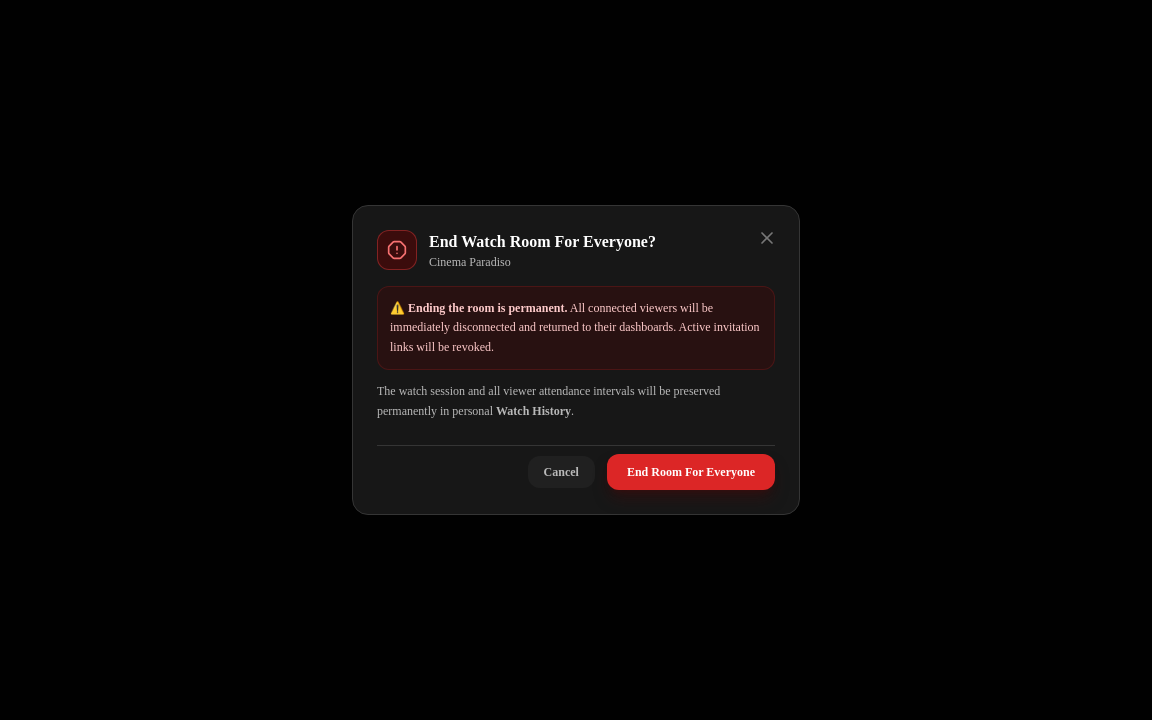
Test: LeaveRoomModal & EndRoomModal Component Tests › EndRoomModal › displays error message if room closure fails
The width and height of the screenshot is (1152, 720).
Click the button "End Room For Everyone".
click(691, 472)  # box [607,454,775,490]
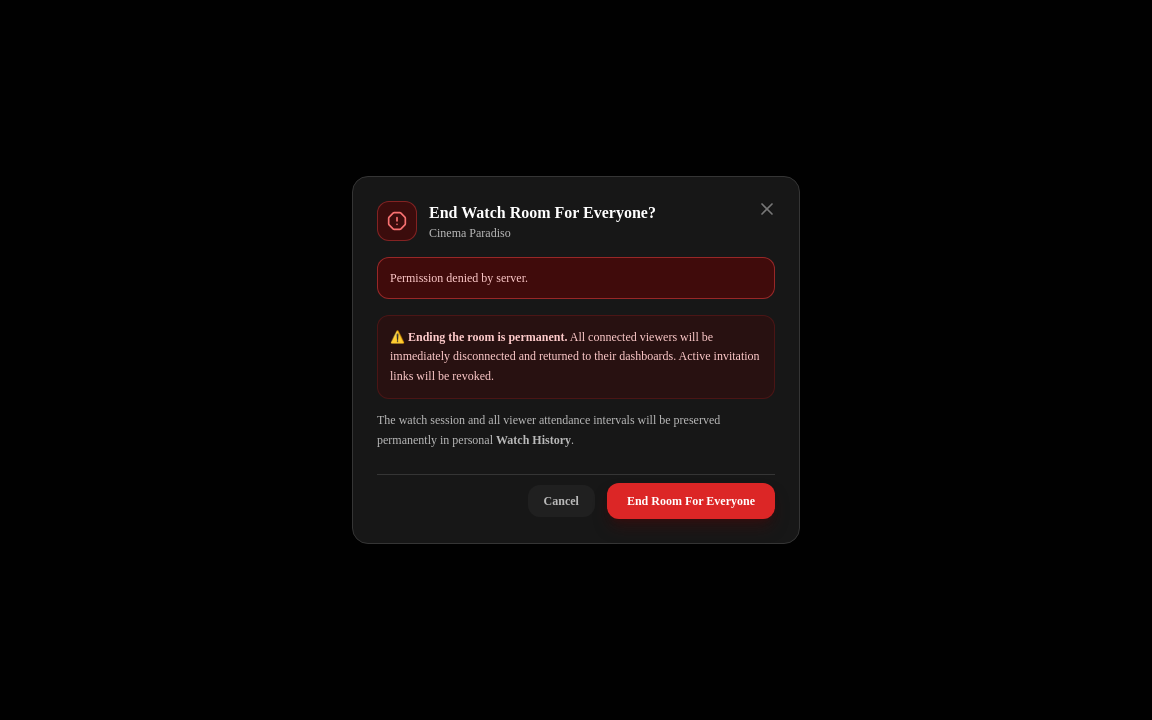
Expected: the text "Permission denied by server." is shown, [390,271,528,285]
